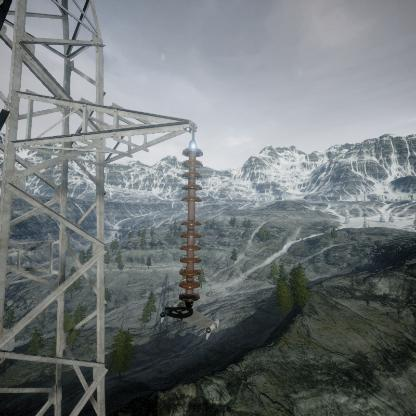insulator: (178, 138, 202, 305)
